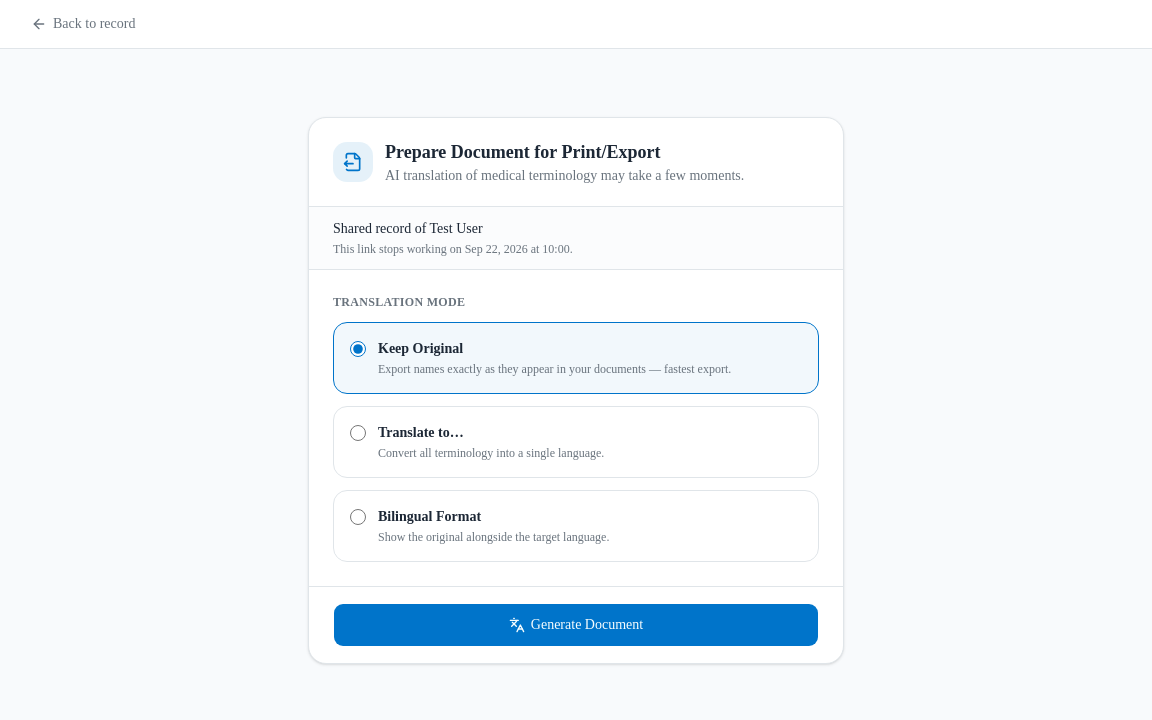
Test: regenerating the same language › still retries when the previous run fell back for some terms
This screenshot has width=1152, height=720.
Later steps or results of the test are not shown.
Click the 2nd radio button at (358, 433), box top-left (350, 425), bottom-right (366, 441)
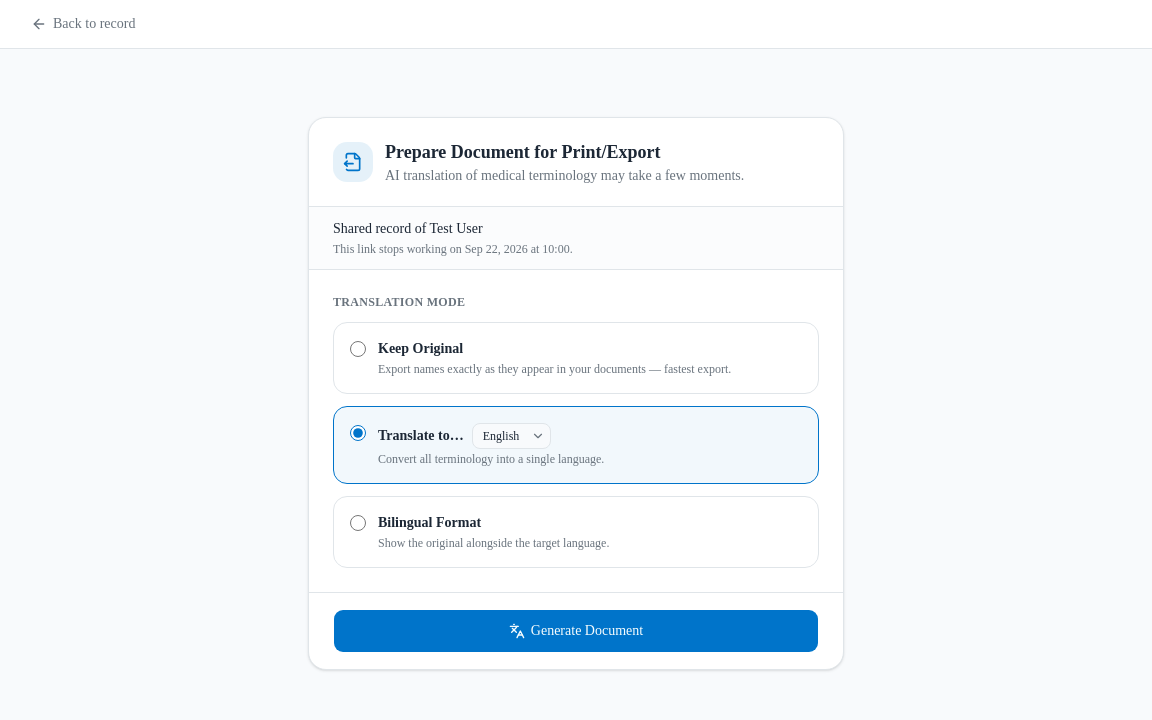
Select "German" in the dropdown at (511, 436), box top-left (472, 423), bottom-right (551, 449)
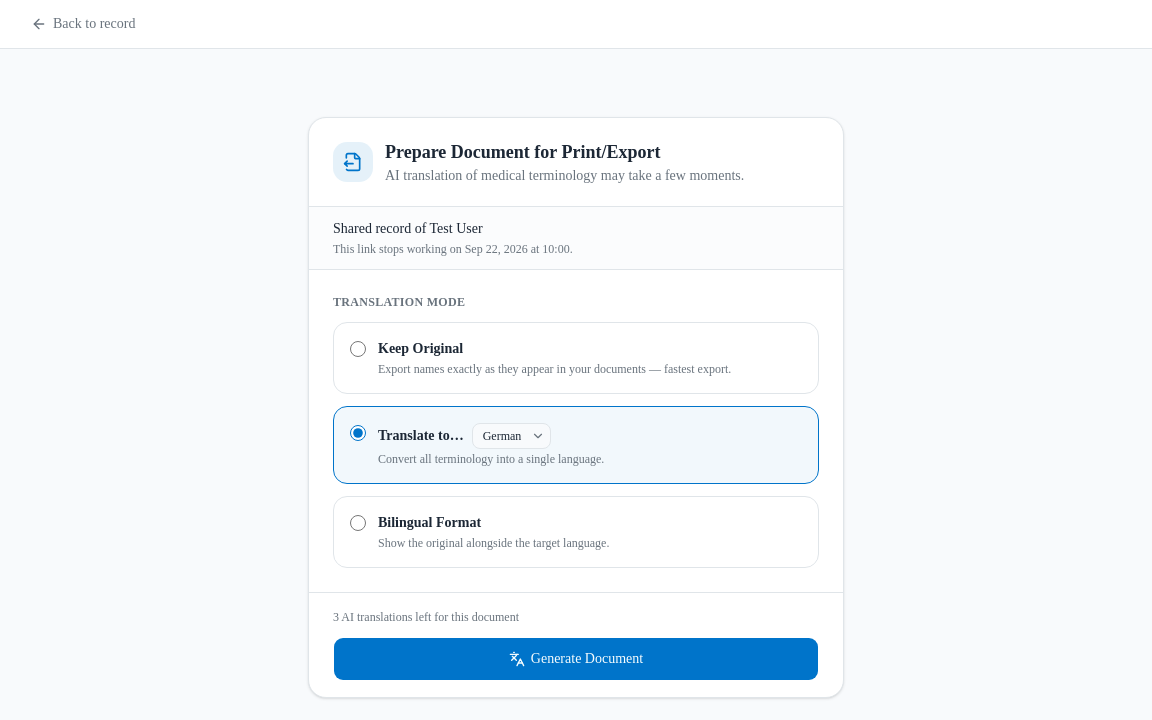
Click the button "Generate Document" at (576, 659), box top-left (333, 637), bottom-right (819, 681)
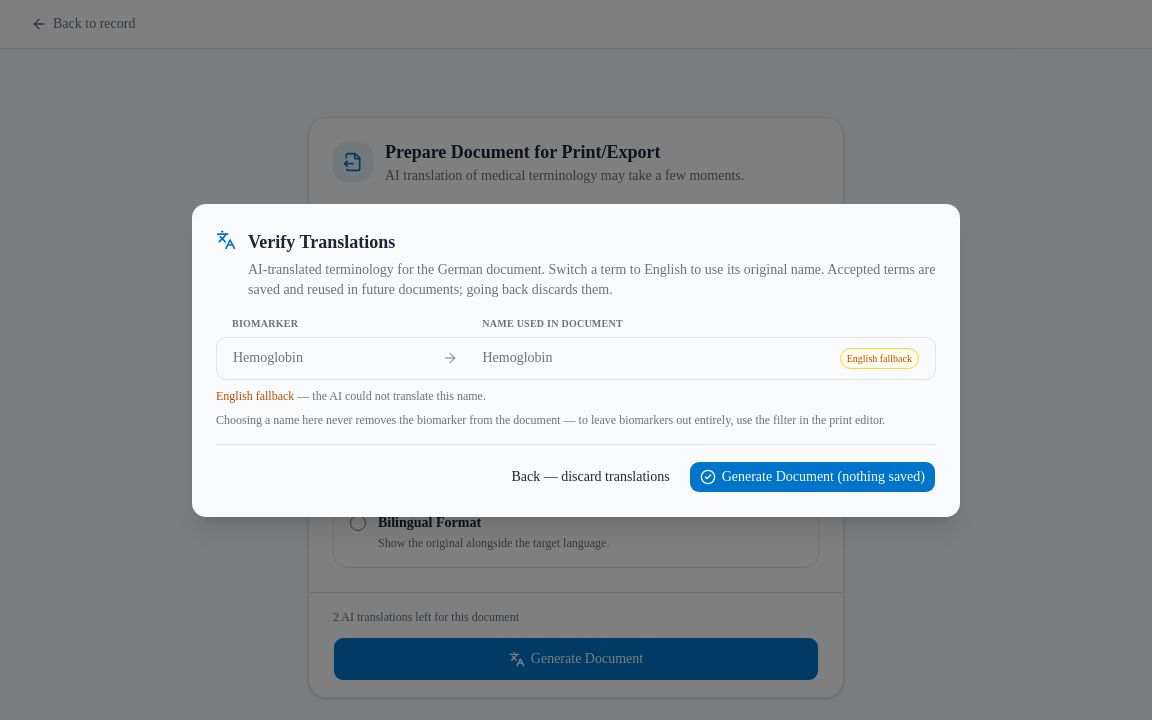
Check: the heading "Verify Translations" is shown, box top-left (248, 232), bottom-right (395, 252)
Click the button "Generate Document (nothing saved)" at (812, 476), box top-left (689, 460), bottom-right (936, 492)
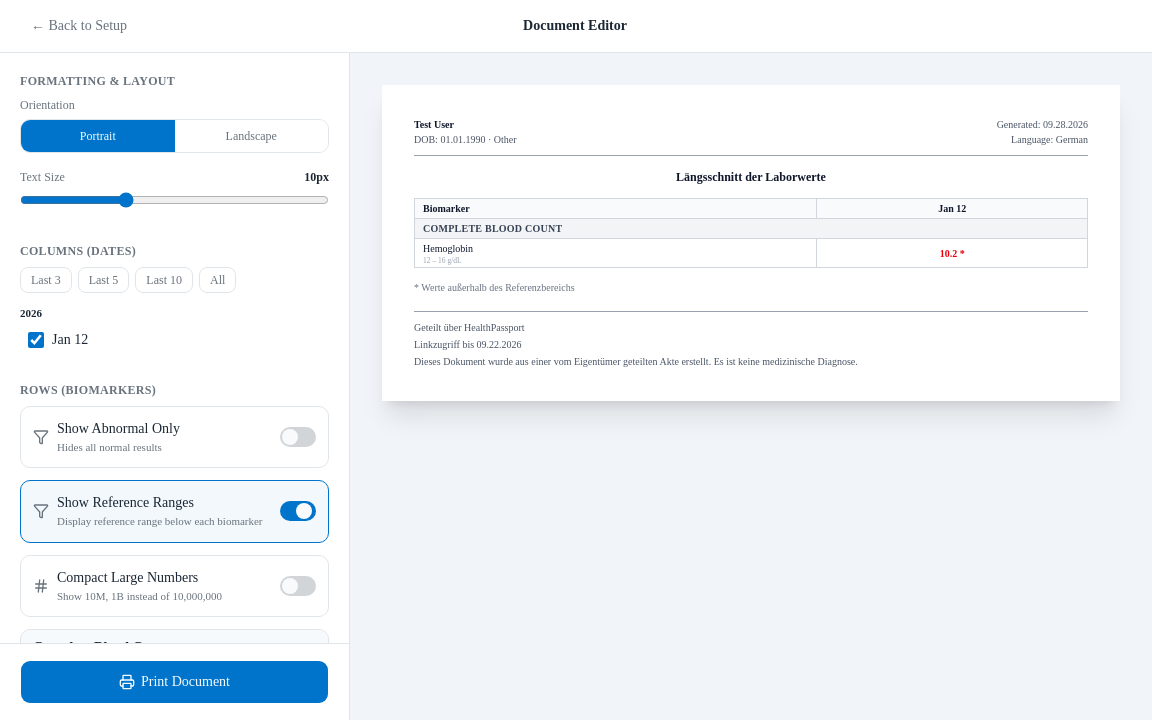
Check: the button "← Back to Setup" is shown
Click the button "← Back to Setup" at (79, 26), box top-left (20, 10), bottom-right (138, 42)
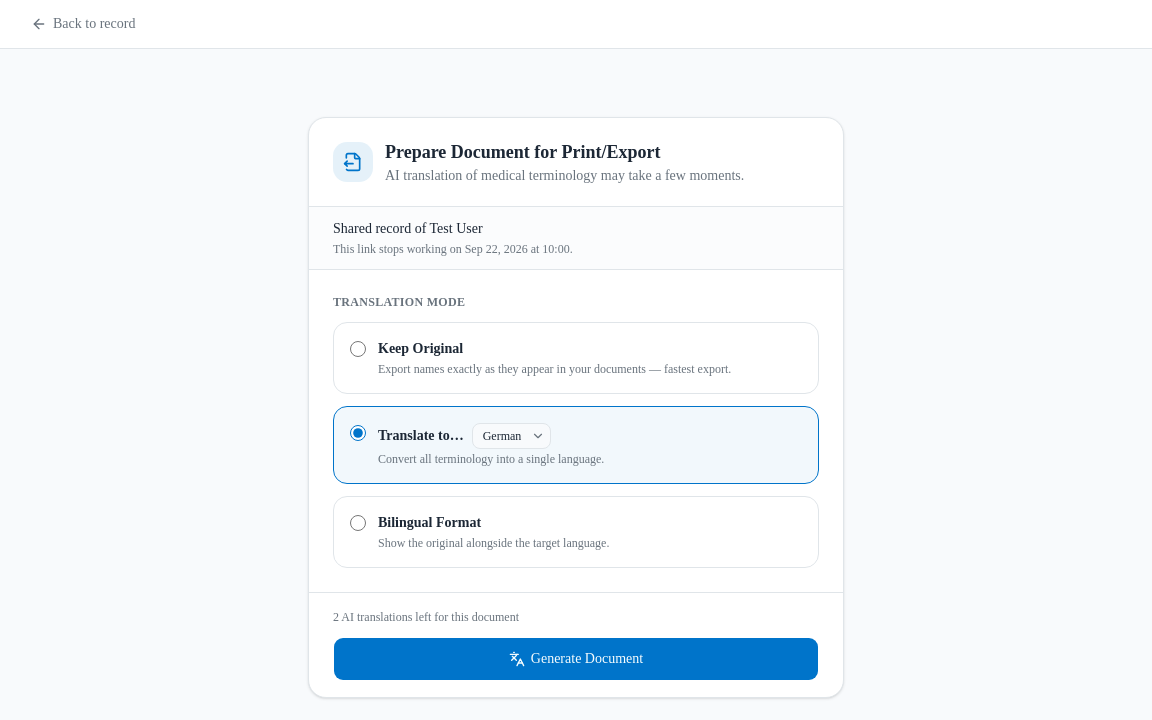
Check: the heading "Prepare Document for Print/Export" is shown, box top-left (385, 142), bottom-right (660, 162)
